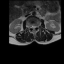CCS_normal: (33, 25, 34, 30)
LFS_stenosis: (35, 24, 37, 28)
LLS_normal: (34, 25, 35, 29)
RFS_stenosis: (30, 25, 31, 29)
RLS_normal: (31, 25, 33, 29)
